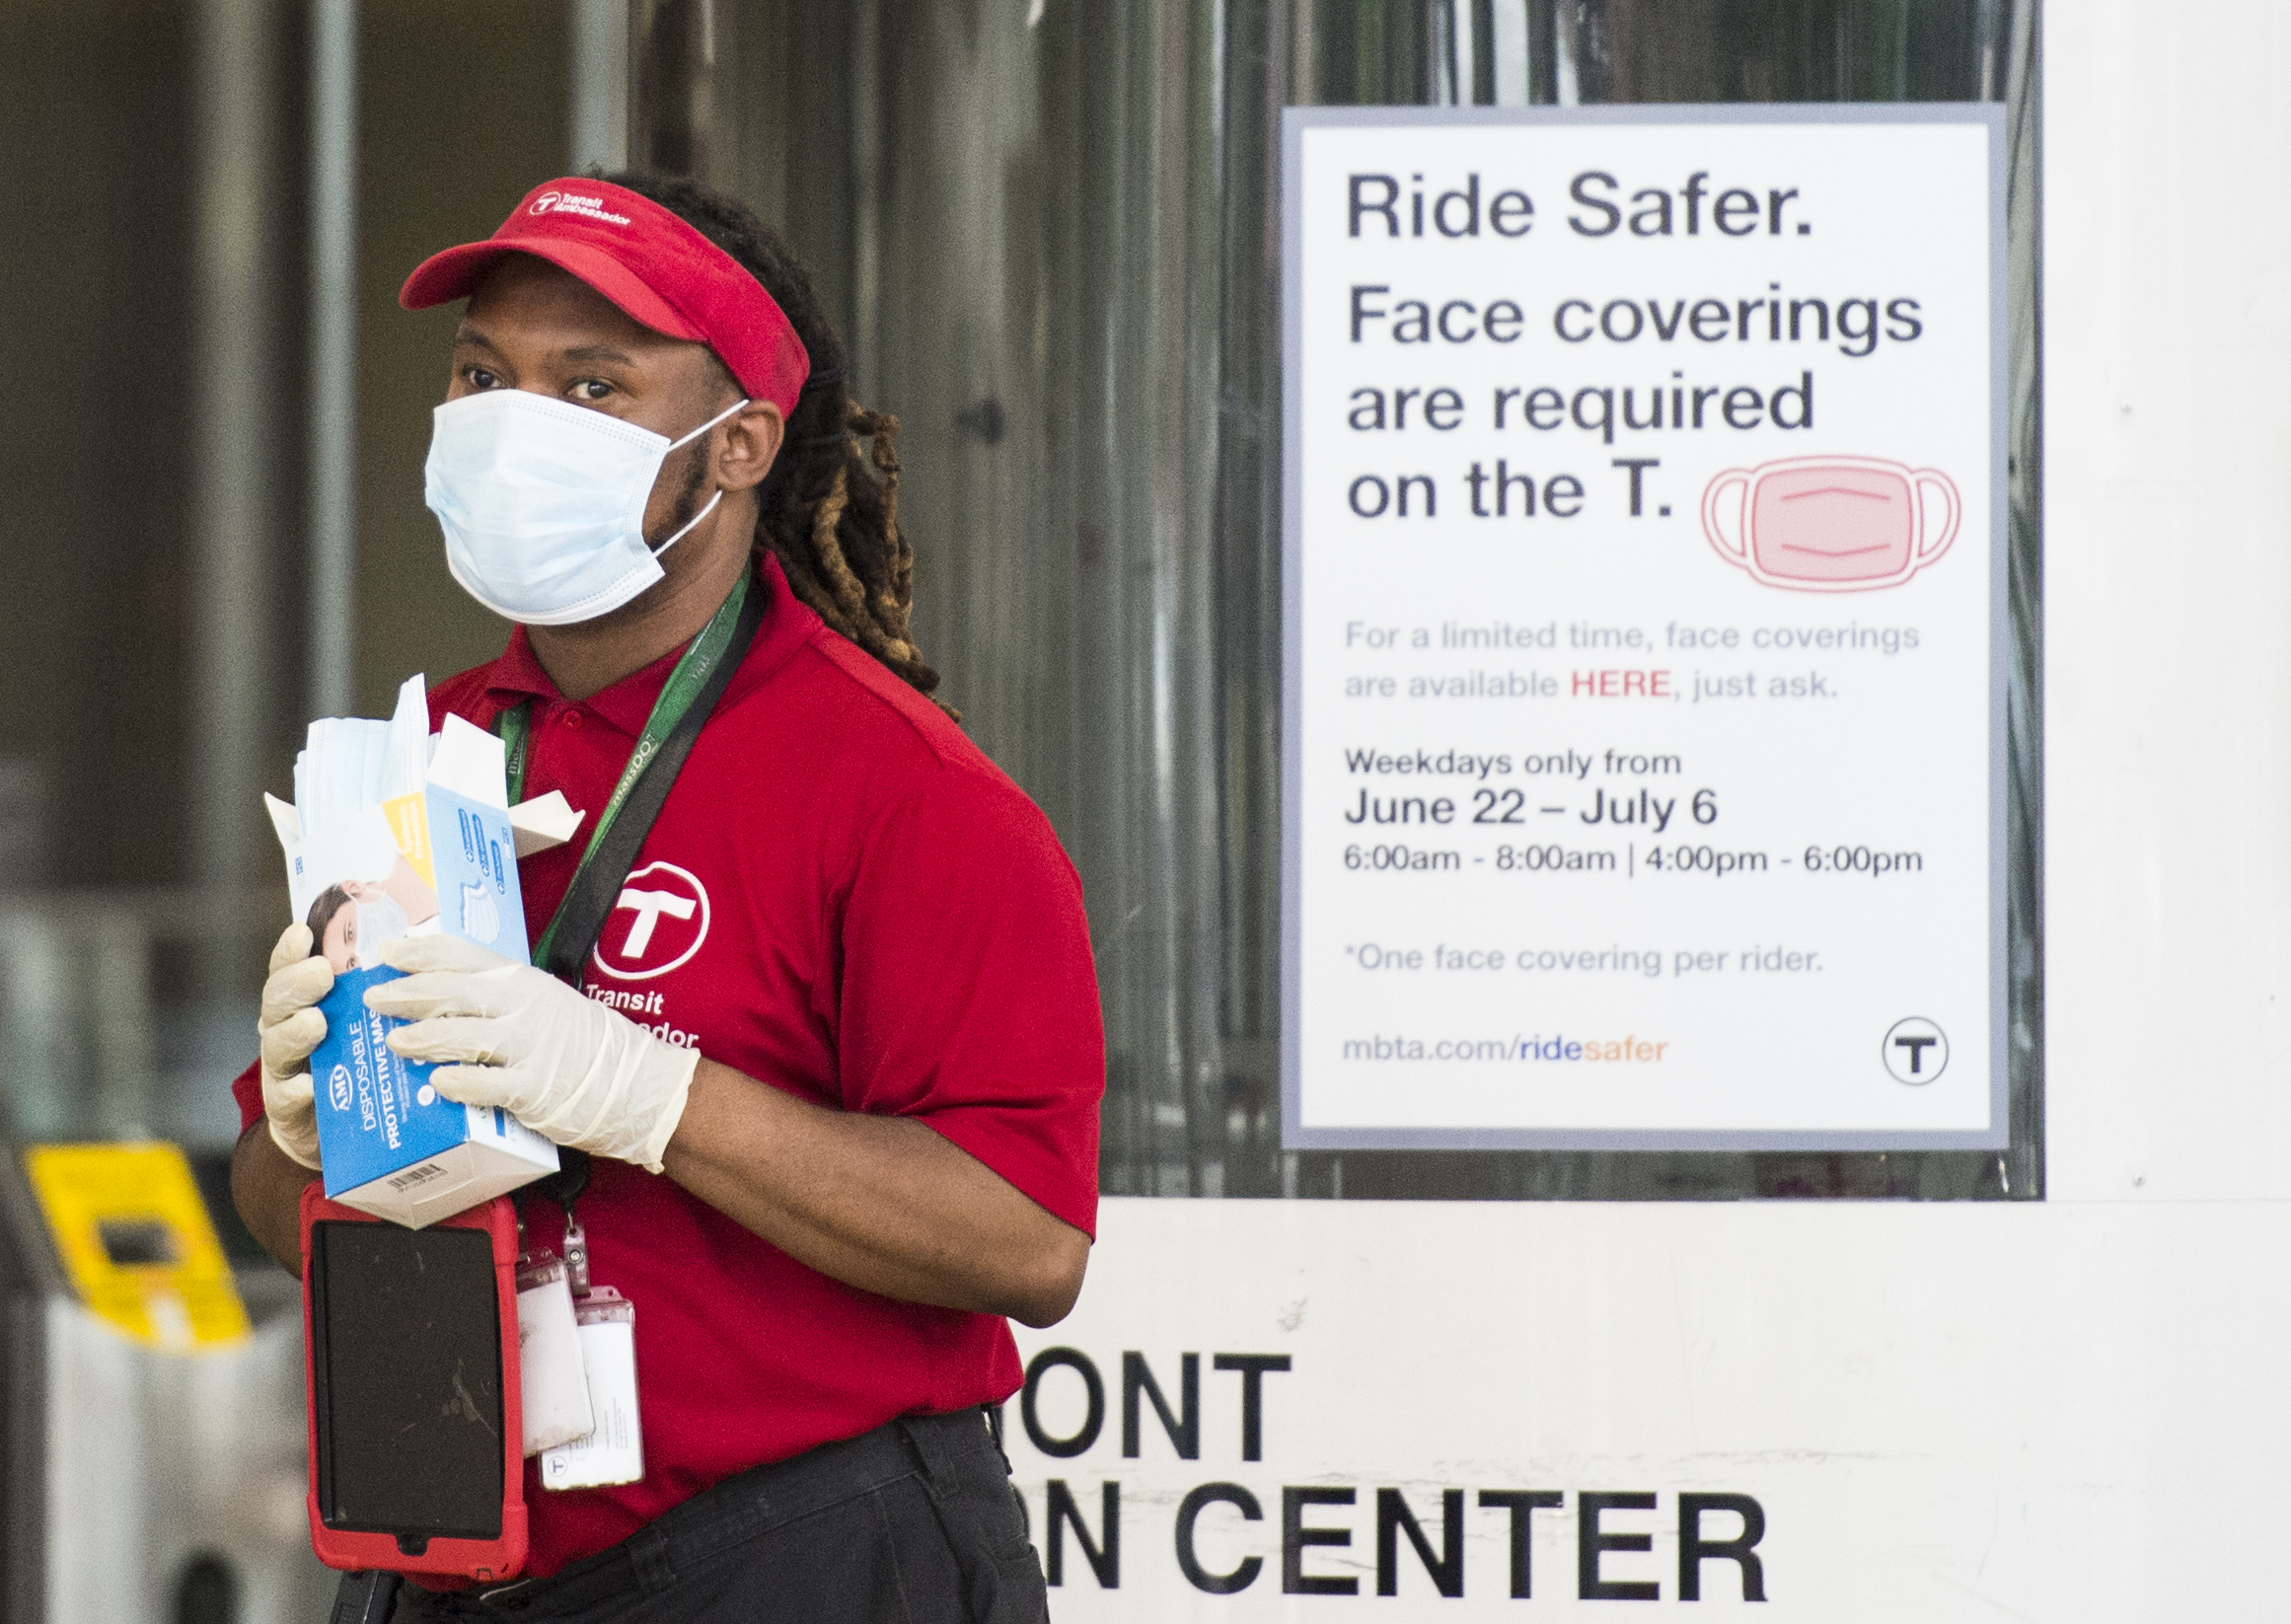with_mask: (440, 288, 669, 596)
